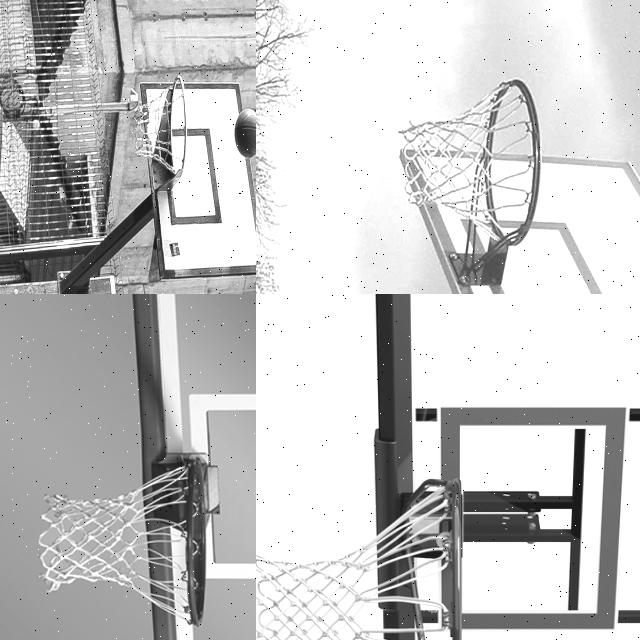backboard: (370, 294, 640, 640), (129, 294, 256, 640), (407, 140, 640, 294), (142, 84, 256, 280)
